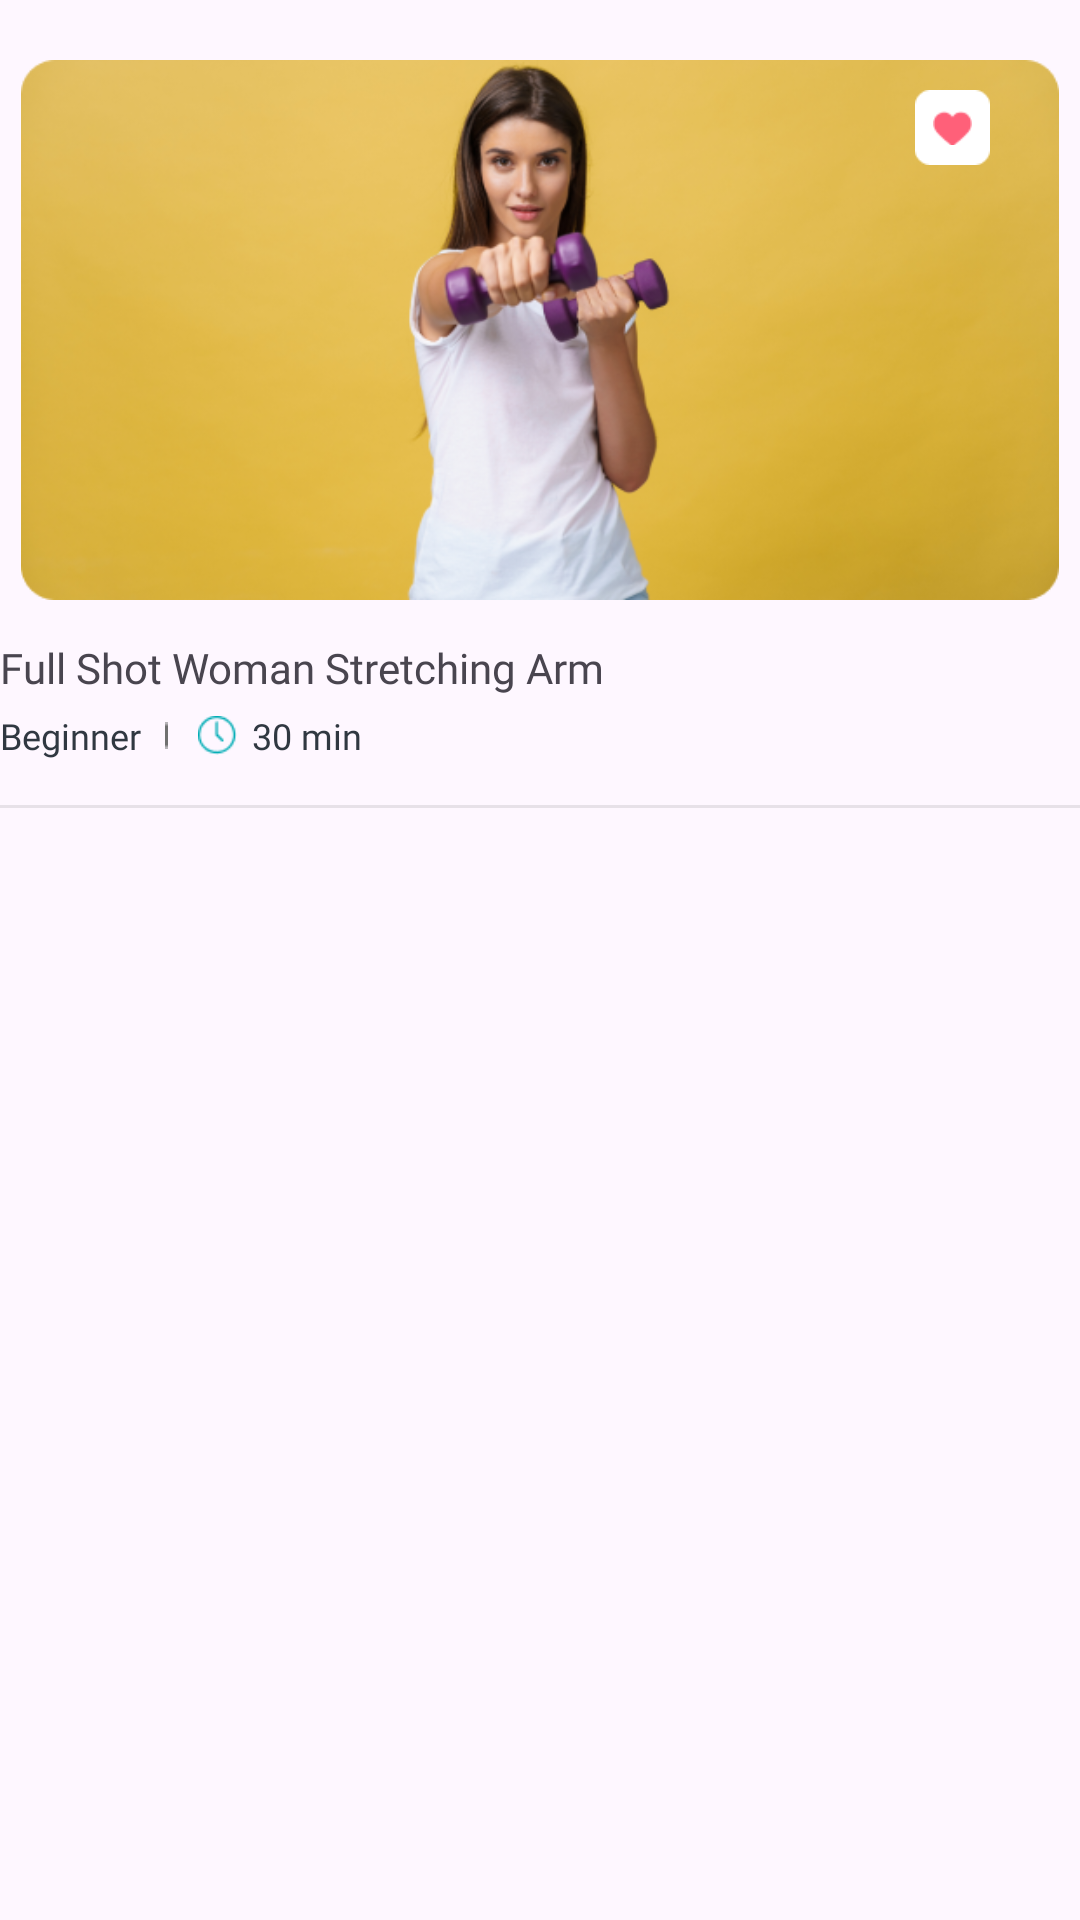

Where icons sit on this 1080×1920 app screen, as [x1,y1,x2,y2]:
clock: [198,716,236,755]
